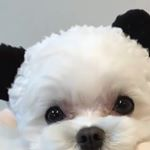puppy: (8, 21, 150, 149)
